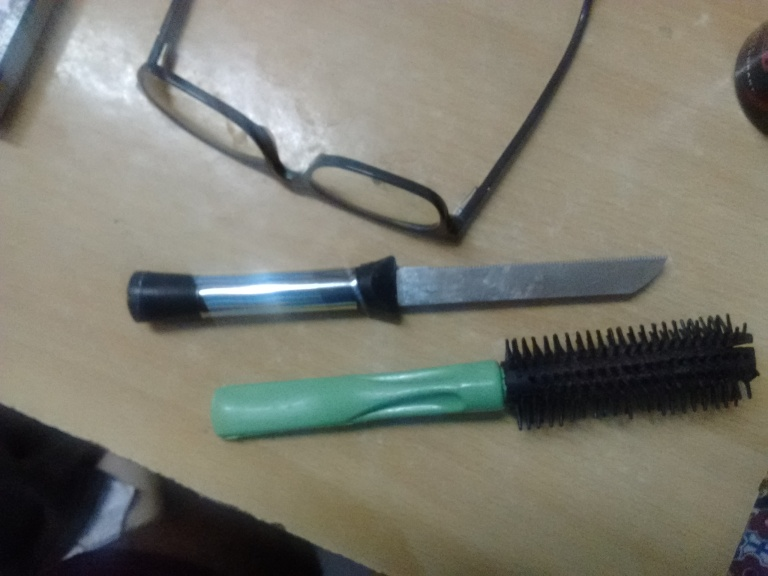knife: (123, 250, 667, 324)
